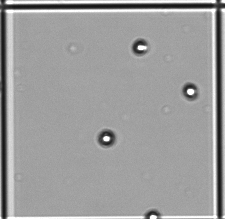Living Cell: (98, 129, 115, 147), (132, 38, 148, 56), (183, 82, 198, 100)
